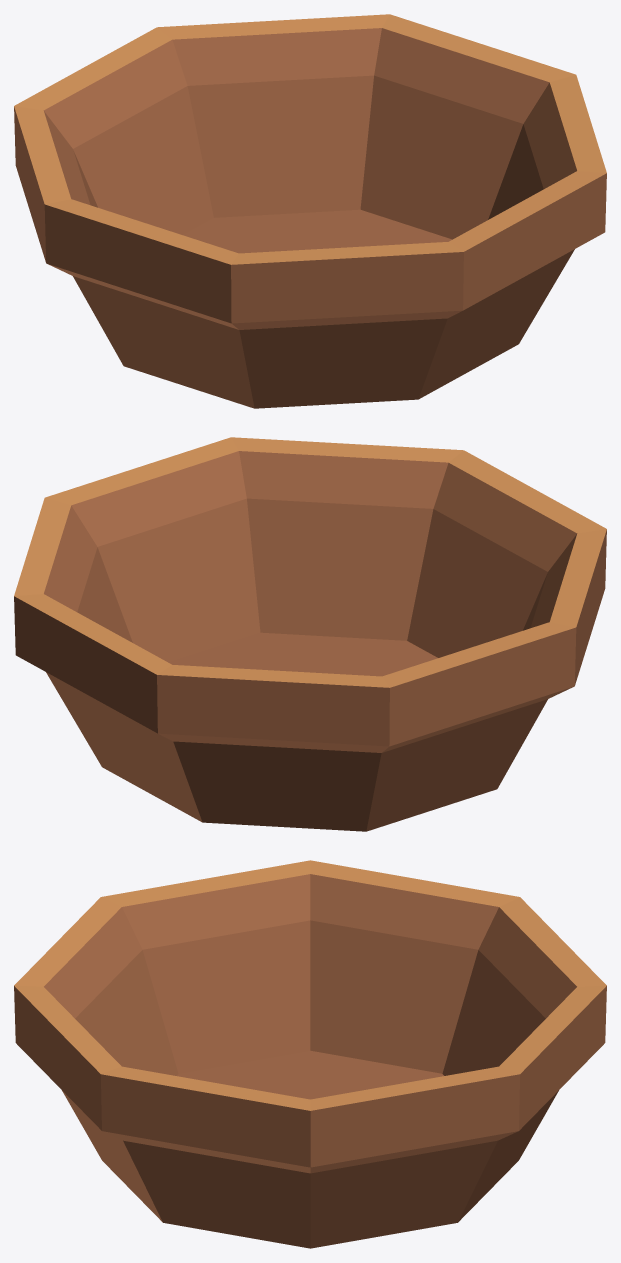
File: SM_Prop_Pot_03.fbx
3 views of the same model, one above another, from view 1: azimuth 30°, elevation 25°; view 2: azimuth 150°, elevation 25°; view 3: azimuth 270°, elevation 25° (orthographic). The views are drawn at different scales.
Parts seen in each view (by area): view 1: SM_Prop_Pot_03; view 2: SM_Prop_Pot_03; view 3: SM_Prop_Pot_03.
Part boxes in pixels (x1,y1,x2,y2): SM_Prop_Pot_03: (14,14,606,408); SM_Prop_Pot_03: (14,437,606,831); SM_Prop_Pot_03: (14,860,606,1248).
Size of the model in its own units: 54.3 by 17.67 by 54.3.
